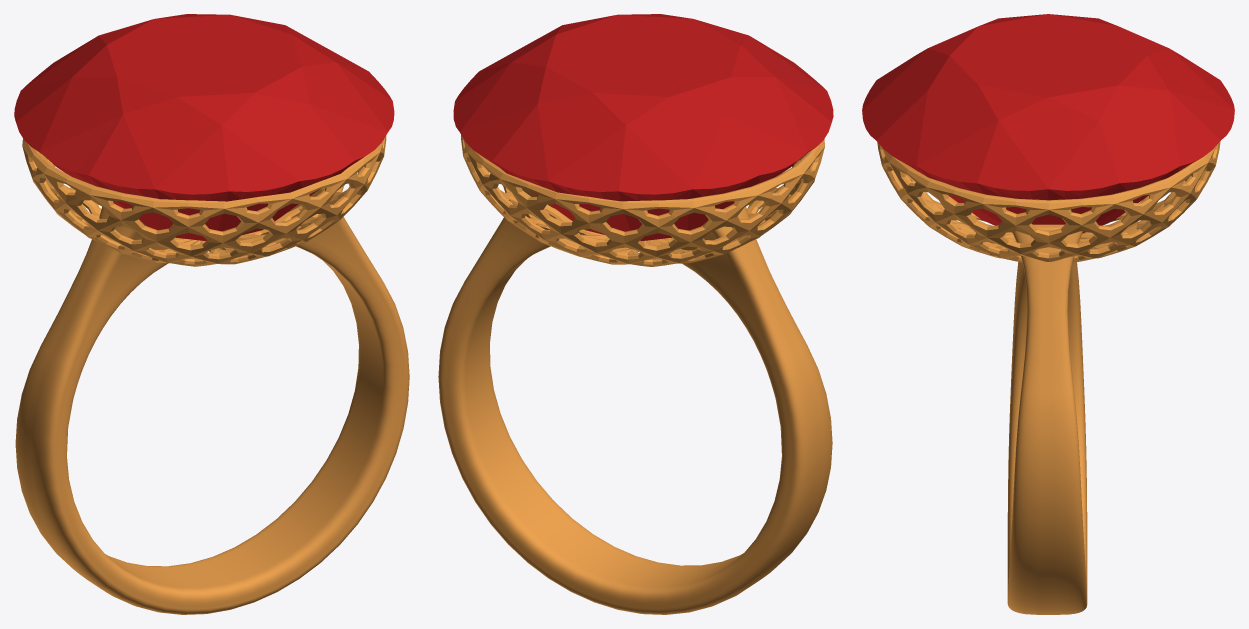
The model's file is ring.fbx.
3 views of the same model, side by side, from view 1: azimuth 30°, elevation 25°; view 2: azimuth 150°, elevation 25°; view 3: azimuth 270°, elevation 25° (orthographic).
Parts seen in each view (by area): view 1: diamond, ring, holder; view 2: diamond, ring, holder; view 3: diamond, ring, holder.
Boxes of the visible parts, box(x1,y1,x2,y2) form: diamond: box(14, 14, 394, 240); ring: box(15, 187, 409, 614); holder: box(22, 136, 386, 266); diamond: box(453, 14, 833, 241); ring: box(438, 188, 832, 614); holder: box(461, 135, 824, 266); diamond: box(862, 14, 1234, 233); ring: box(1007, 224, 1087, 614); holder: box(877, 141, 1220, 262).
Size of the model in its own units: 404 by 570 by 360.
